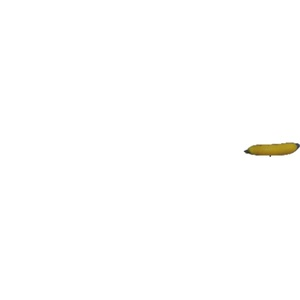banana: (242, 139, 299, 159)
